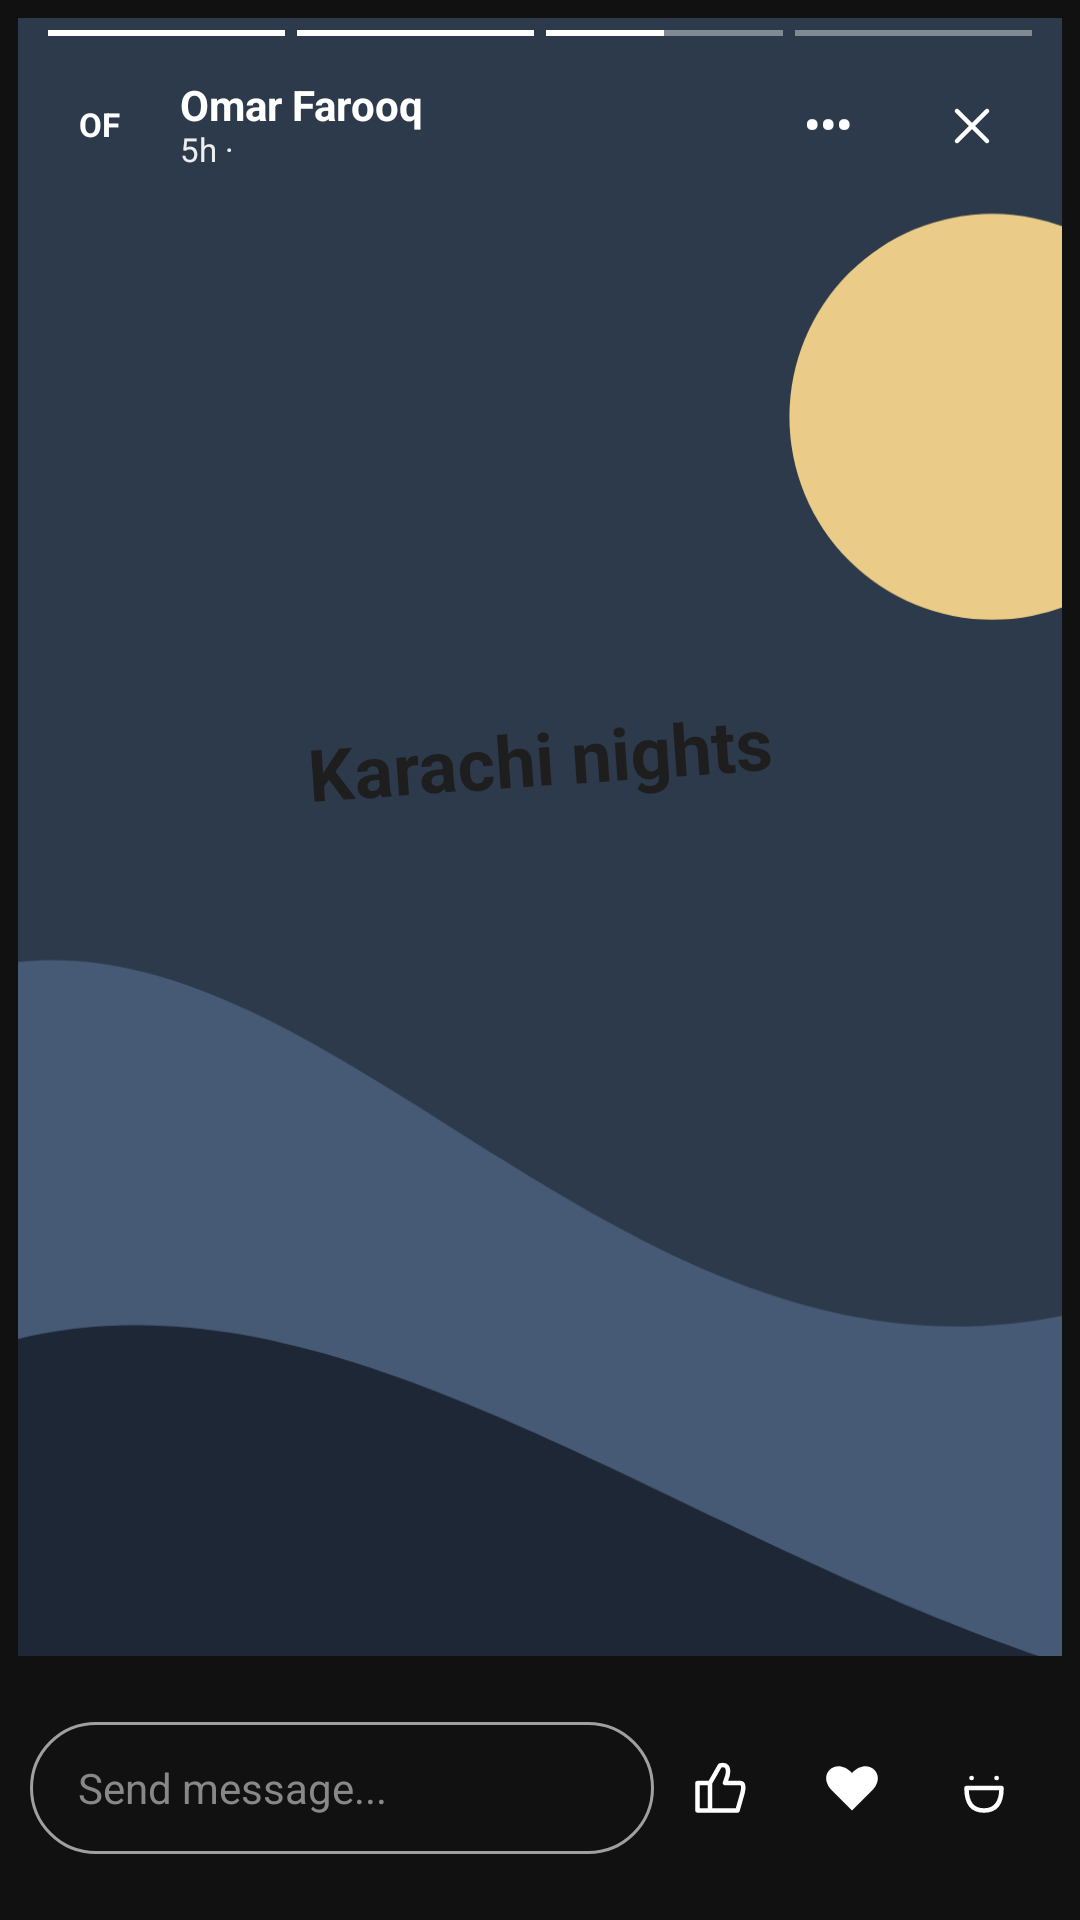

Point at icon controls on the screen. Image size 1080*1920, points as (x,y).
story close: (972,126)
story laugh: (984,1794)
story love: (852,1788)
story thumb: (720,1787)
